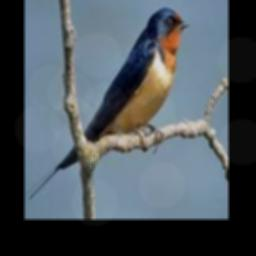Swallow: (26, 6, 189, 198)
